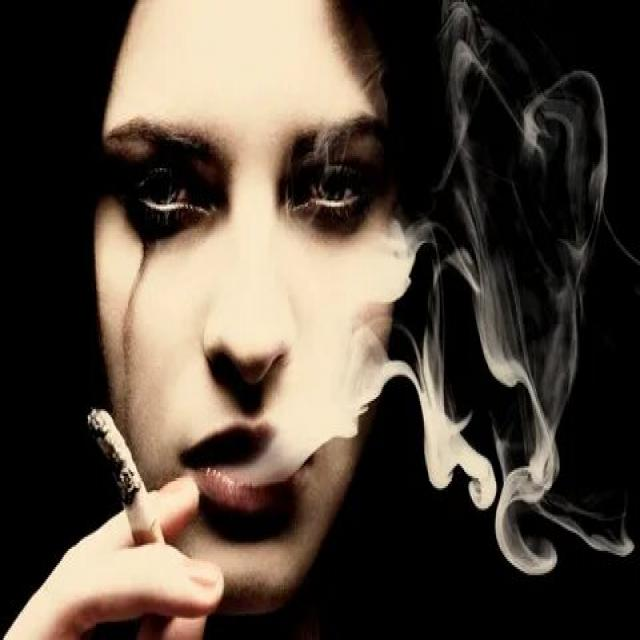cigarette: (84, 399, 173, 559)
